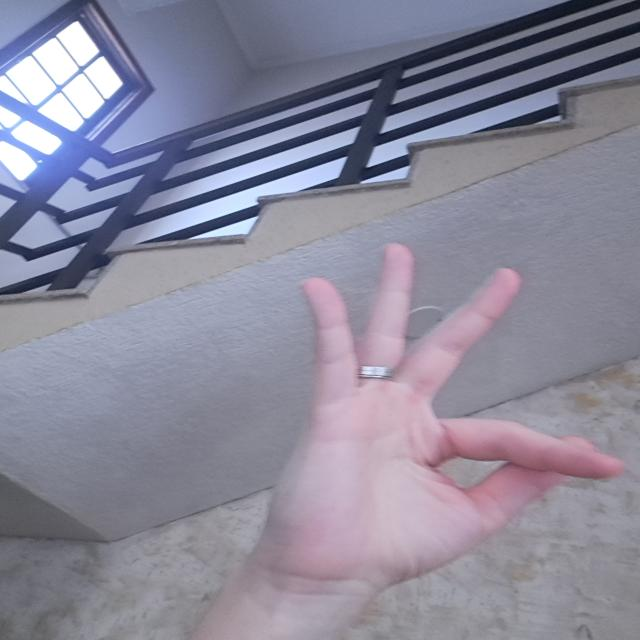F: (256, 239, 628, 592)
